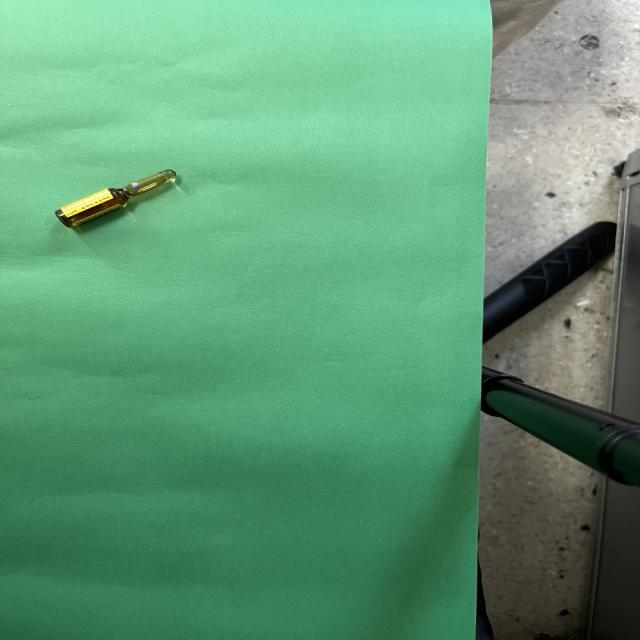Ampoules: (56, 170, 177, 228)
